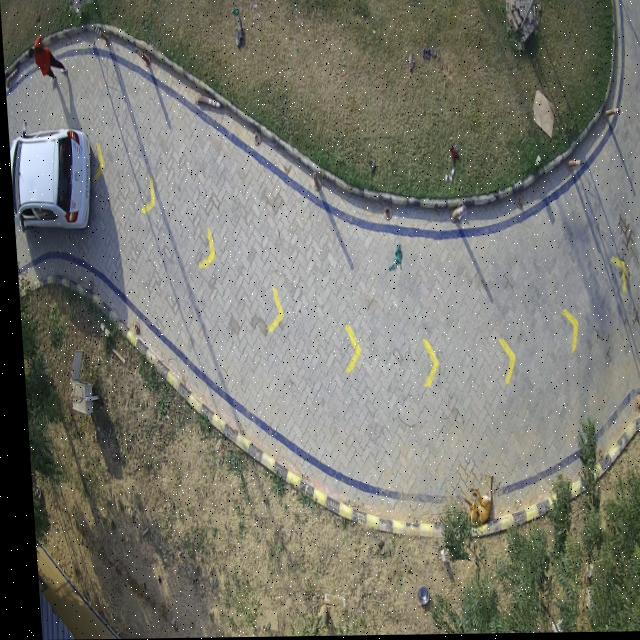car: (8, 130, 88, 231)
